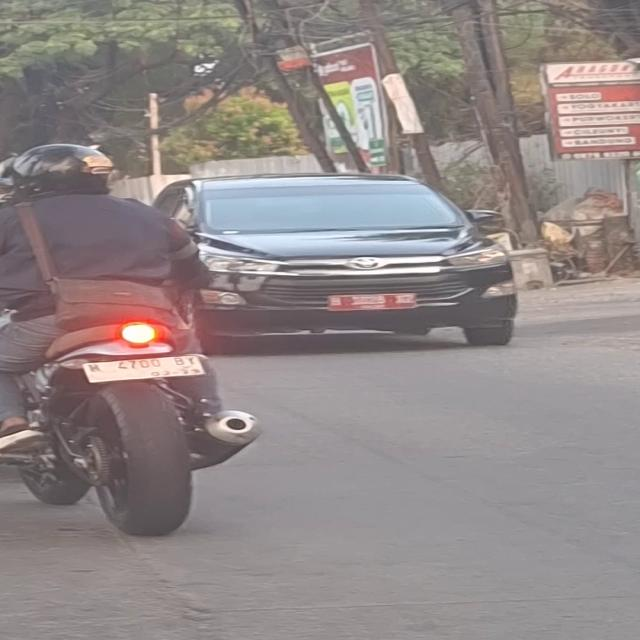WithHelmet: (0, 142, 210, 449)
